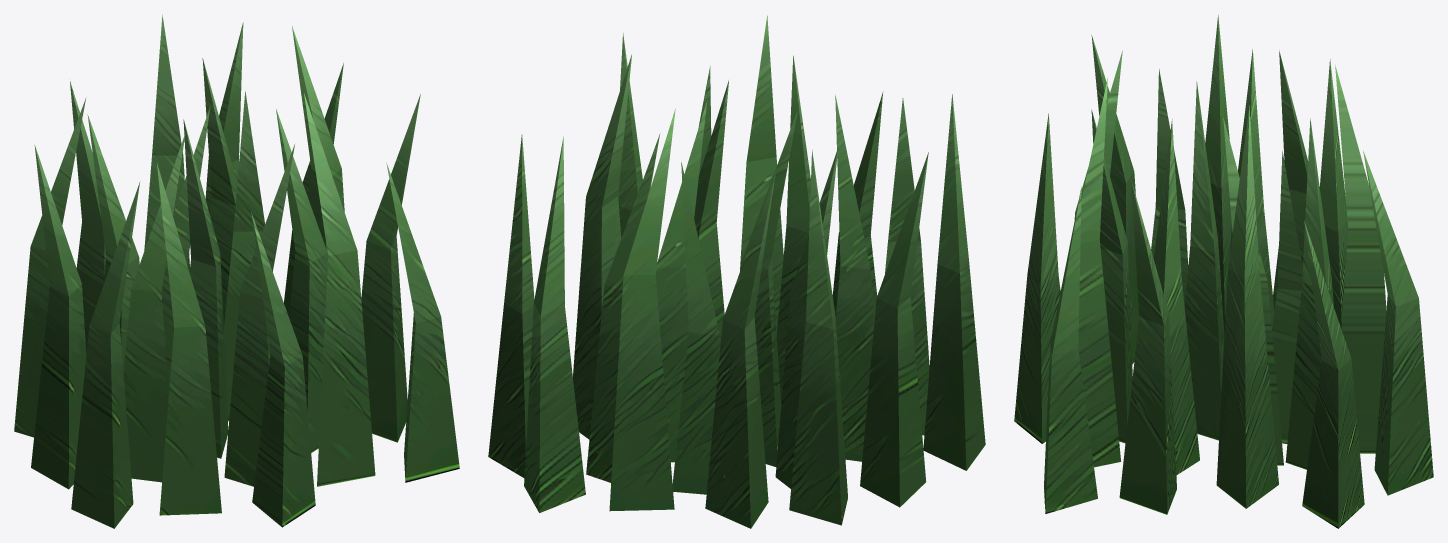
File: Grass.glb
The picture shows the model from 3 angles, left to right: view 1: azimuth 30°, elevation 25°; view 2: azimuth 150°, elevation 25°; view 3: azimuth 270°, elevation 25°; orthographic projection. The views are drawn at different scales.
Parts seen in each view (by area): view 1: Grass; view 2: Grass; view 3: Grass.
Part boxes in pixels (x1,y1,x2,y2): Grass: [14, 14, 459, 528]; Grass: [488, 15, 985, 528]; Grass: [1014, 15, 1433, 528].
Size of the model in its own units: 72.99 by 72.7 by 73.12.
1 material, 1 textured.
